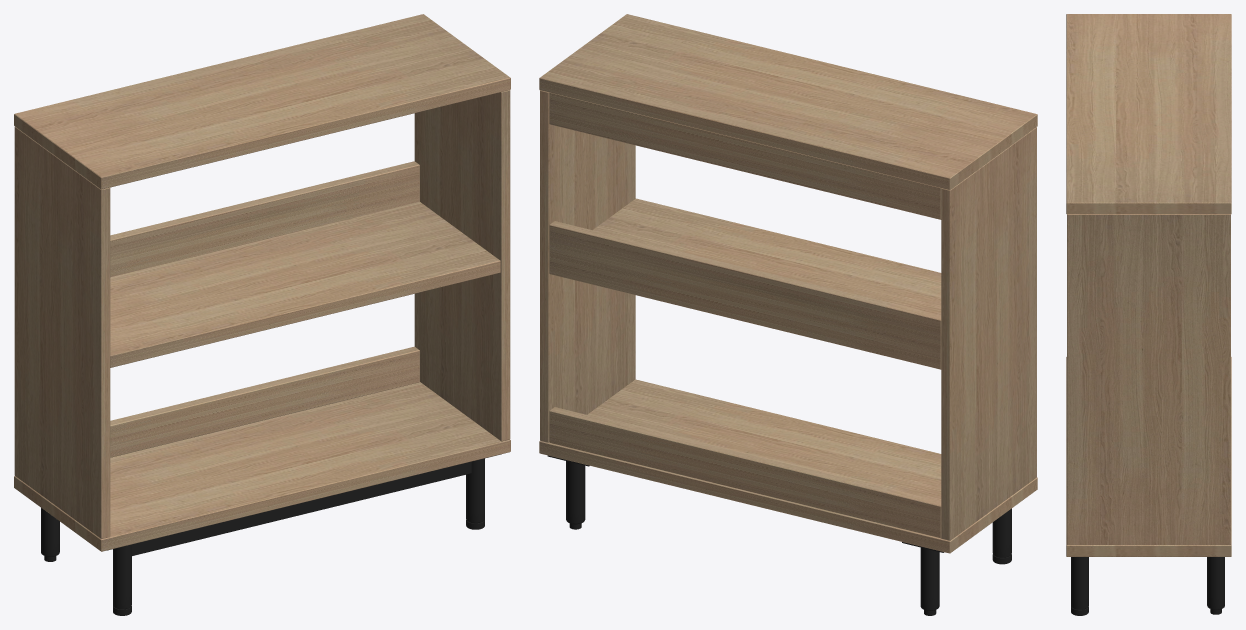
File: shelf.glb
3 views of the same model, side by side, from view 1: azimuth 30°, elevation 25°; view 2: azimuth 150°, elevation 25°; view 3: azimuth 270°, elevation 25° (orthographic). The views are drawn at different scales.
Parts seen in each view (by area): view 1: BP_BKIC04243; view 2: BP_BKIC04243; view 3: BP_BKIC04243.
Boxes of the visible parts, <box> form: BP_BKIC04243: <box>14,14,510,615</box>; BP_BKIC04243: <box>539,14,1037,615</box>; BP_BKIC04243: <box>1066,14,1231,615</box>.
Size of the model in its own units: 0.796 by 0.829 by 0.294.
2 materials, 1 textured.
